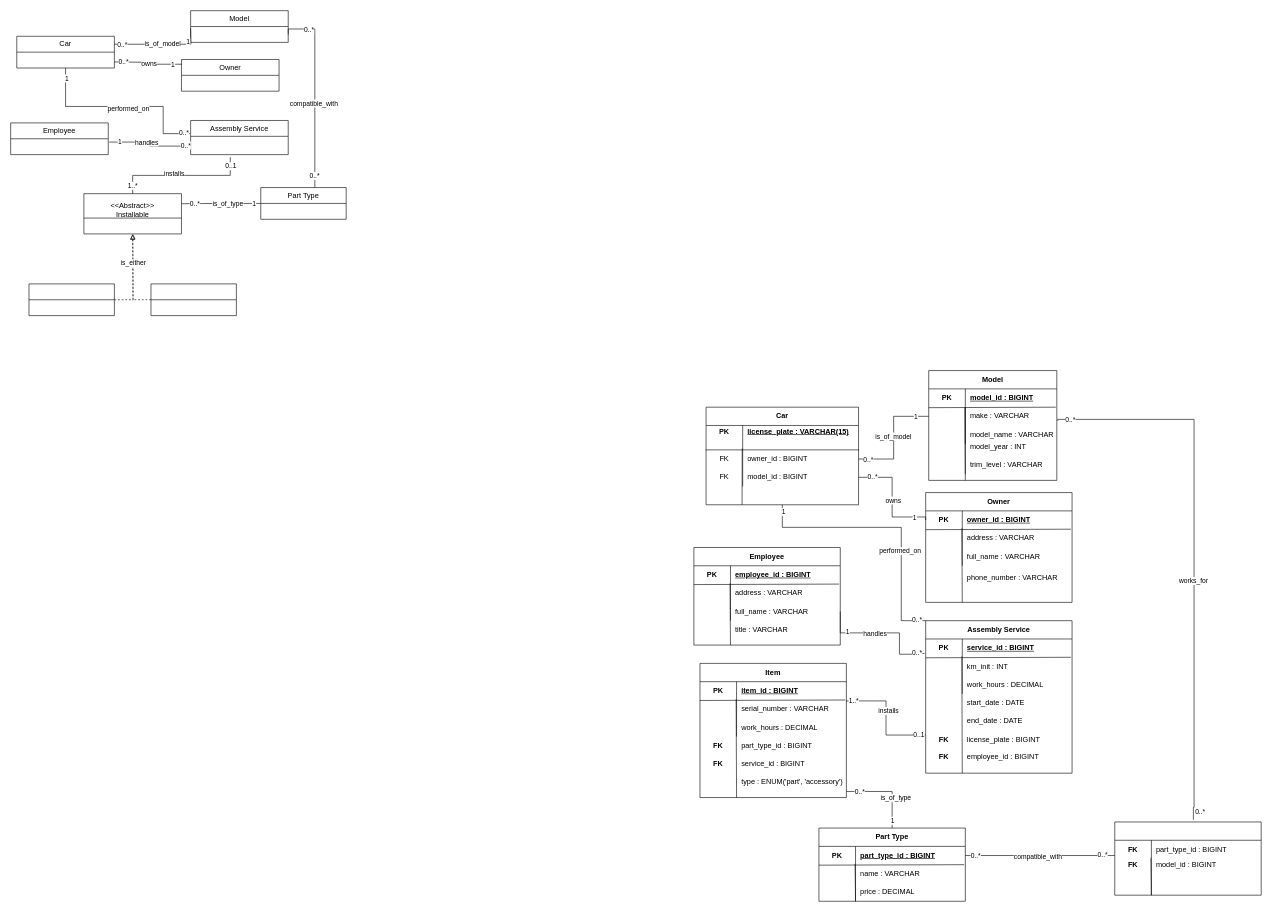
This 1272x913 diagram has some shape labels left out. The box of each missing label's shape, as (x1, y1, x2, y2) in pixels:
Accessory: (150, 283, 236, 316)
Compatible Part to Model: (1114, 821, 1261, 895)
Part: (28, 283, 114, 316)
